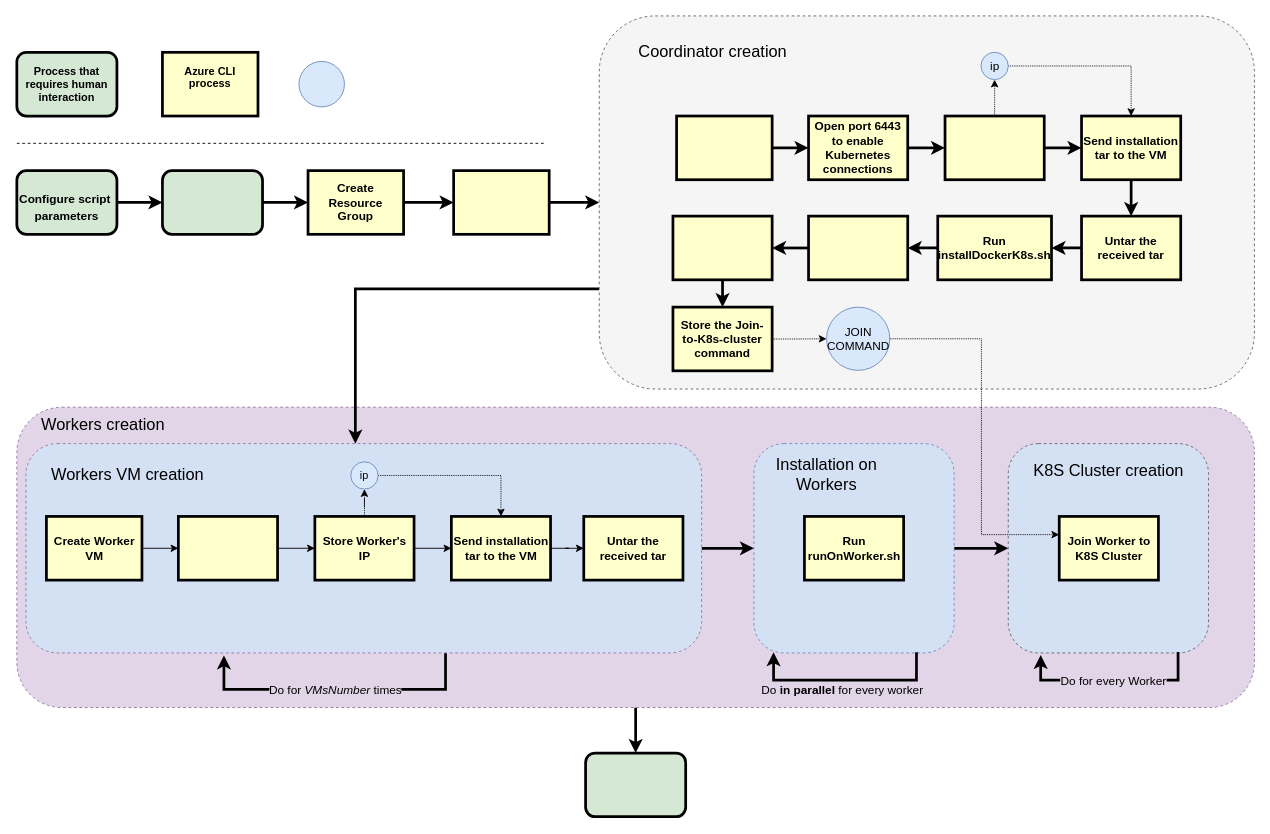
The diagram is 1270 pixels wide and 834 high, and some of its shapes have lost their labels. The shapes that lost their labels are listed below. From the top down, each one's centre as x and y in pixels, then its label:
(x=321, y=84): Variable
(x=724, y=147): Create Coordinator VM
(x=994, y=147): Store Coordinator's IP
(x=212, y=202): Azure Authentication
(x=501, y=202): Create Virtual Network
(x=722, y=247): Run runOnMaster2.sh
(x=858, y=247): Run runOnMaster.sh
(x=227, y=548): Open port 5432 to enable PostgreSQL connections
(x=635, y=784): Execute startK8s.sh
